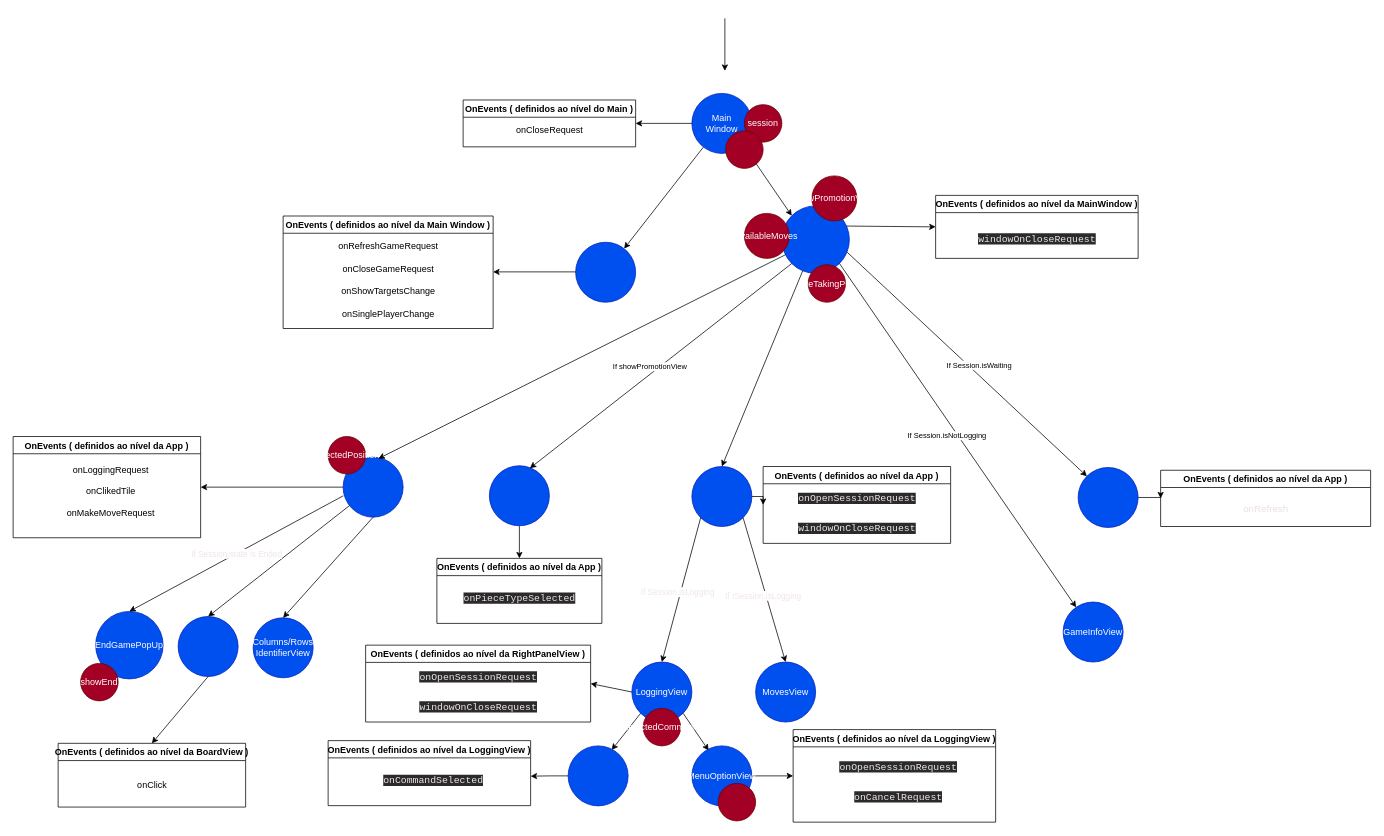
This 1384x836 diagram has some shape labels left out. Here are the shapes that lost their labels. From the top down, the centre of each, then its label:
At pixel 744 149: "AppOptions".
At pixel 815 239: "App".
At pixel 605 272: "Menu Bar".
At pixel 372 486: "BoardView".
At pixel 519 495: "PromotionView".
At pixel 721 496: "RightPanelView".
At pixel 1107 497: "RefreshTimer".
At pixel 207 646: "Tile".
At pixel 597 775: "MenuView".
At pixel 736 802: "textState".
